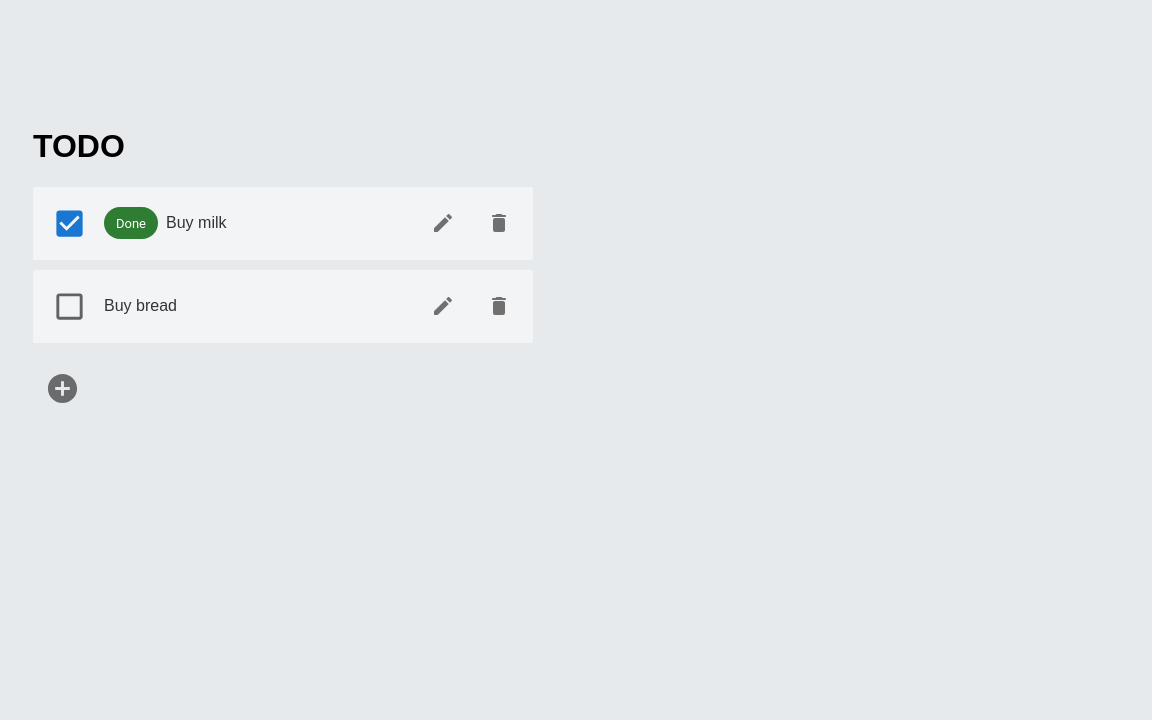
Test: TodoApp › should edit todo subject Buy milk to Buy Dr Pepper
Expected: the text with test id "todo-list-item-text-0" reads "Buy milk", [166,214,226,231]
Click the button with test id "button-edit-todo-0". click: (443, 223)
box: [419,199,467,247]
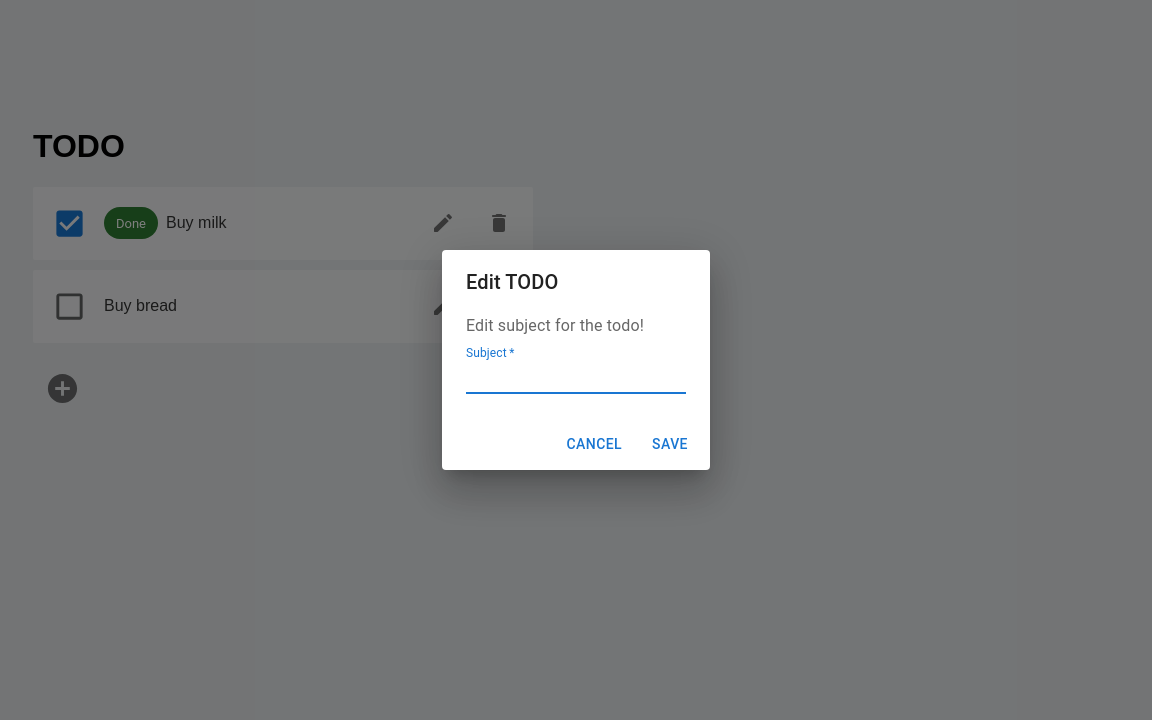
Type "Buy Dr Pepper" into the field with test id "dialog-input-todo-subject". click: (576, 378)
box: [466,362,686,394]
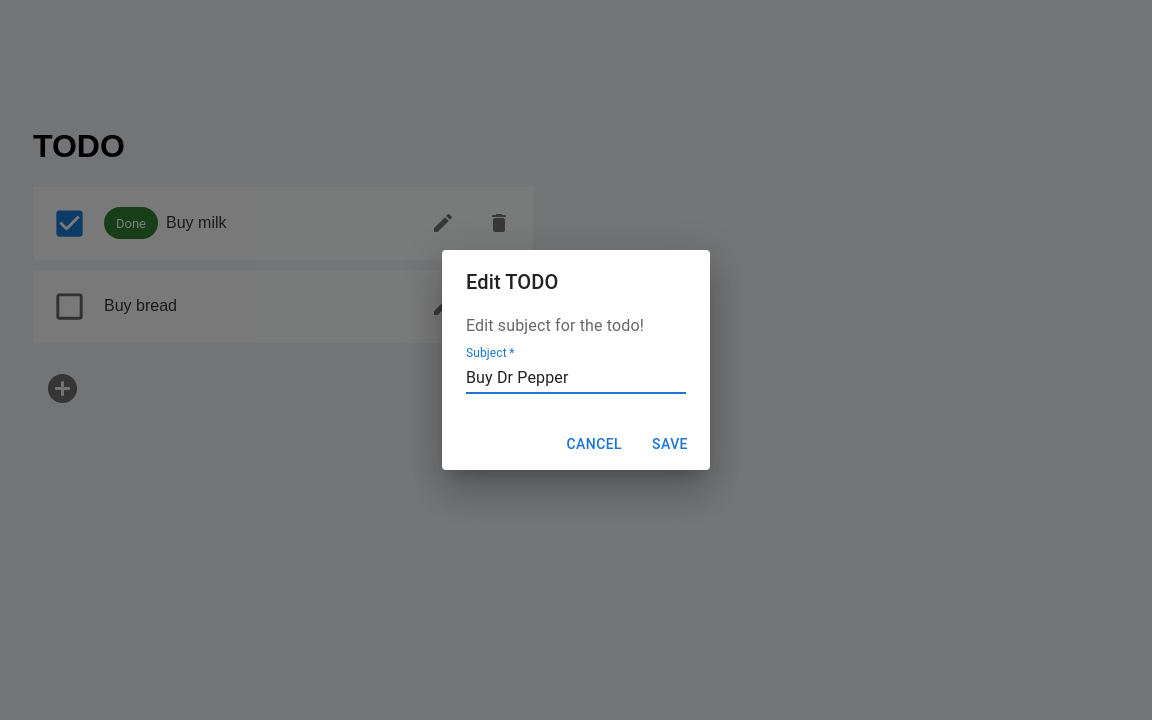
Click the button with test id "dialog-button-save-todo". click: (670, 444)
box: [638,426,702,462]
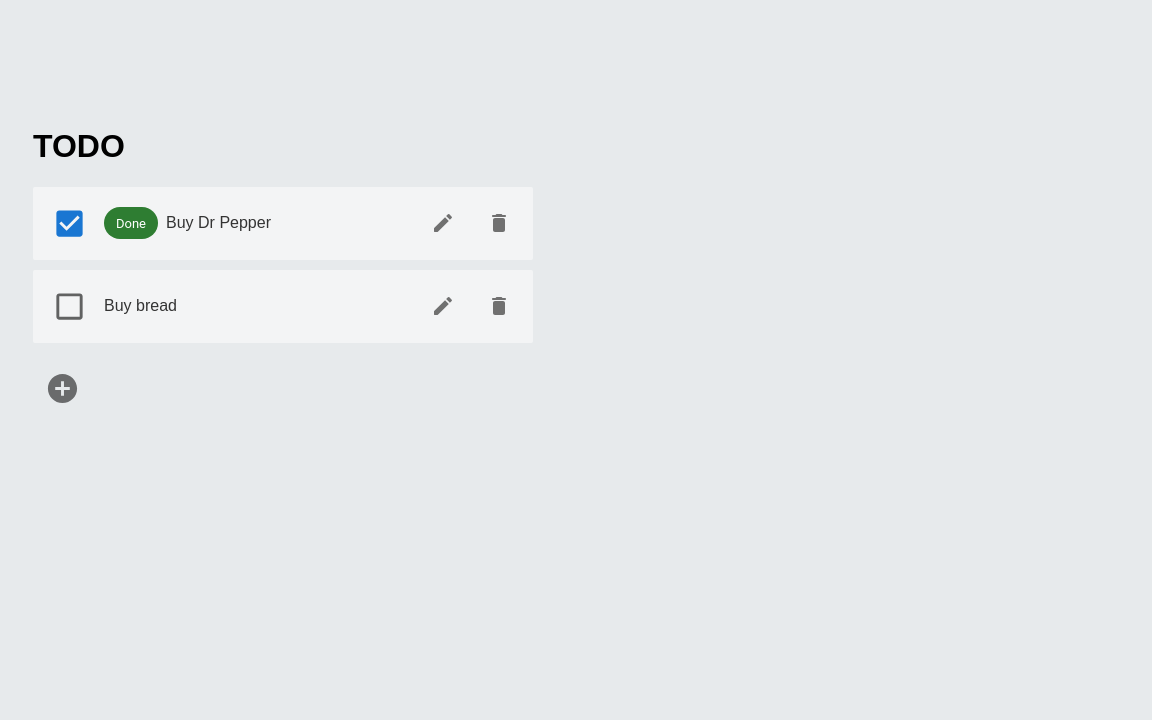
Expected: the text with test id "todo-list-item-text-0" reads "Buy Dr Pepper", [166,214,271,231]
Expected: the text "Buy milk" is gone
